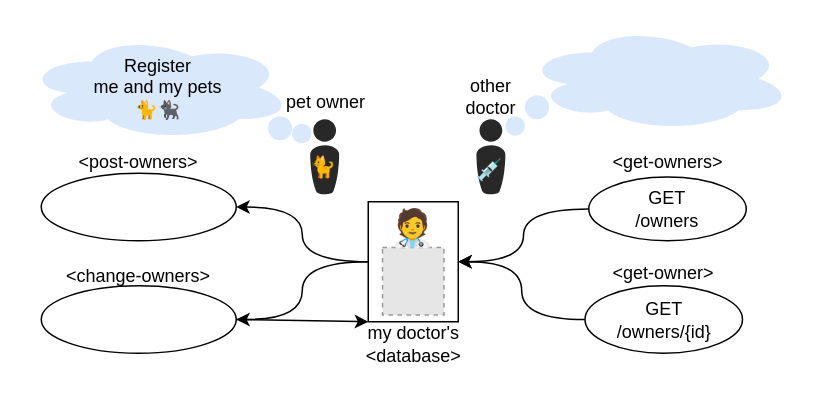
Some shapes in this 819 by 399 pixel diagram are drawn without their labels. Grey dashed boxes stand in for pictures. Here are the shapes that lost their labels. From the top down, the box of each, then its label:
(524, 26, 791, 130): What is the medical background of these cats?
(40, 172, 236, 241): POST /owners
(40, 284, 236, 353): POST /owner/{id}/{pet-id}/change-owner
